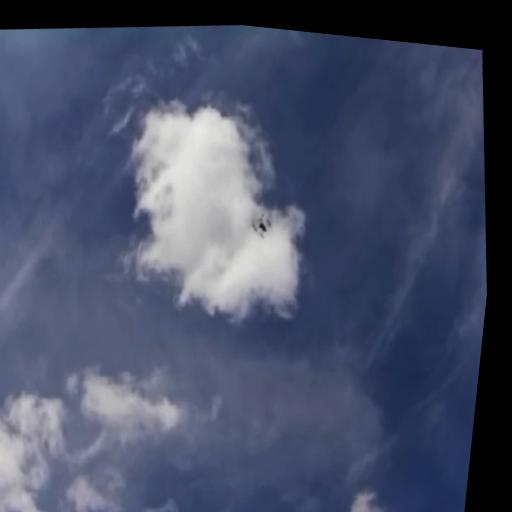drones: (246, 204, 278, 244)
